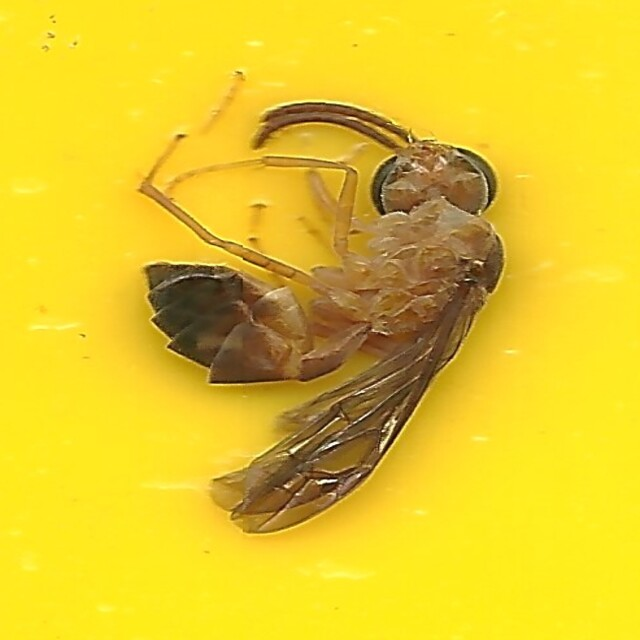Hymenoptera: (130, 98, 510, 542)
